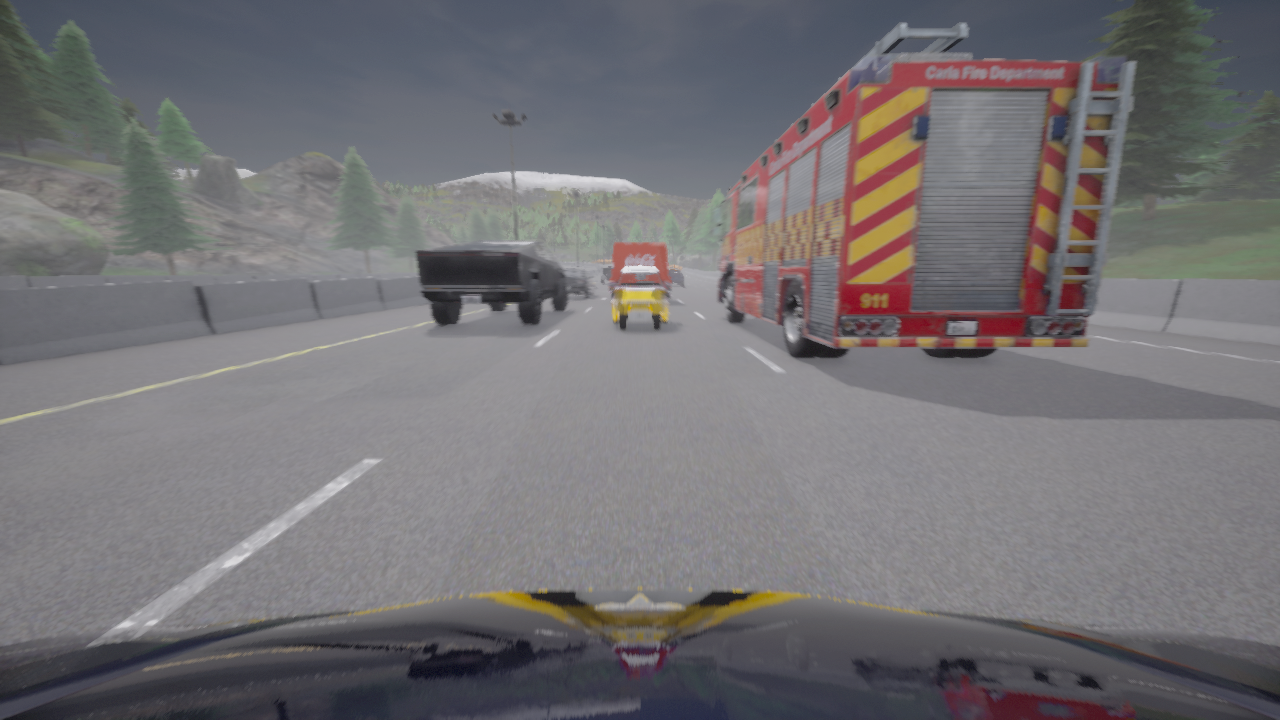cyclist: (0, 588, 1279, 719), (711, 22, 1134, 357), (416, 240, 567, 324), (609, 266, 670, 329), (609, 242, 670, 300), (564, 268, 596, 298), (668, 270, 684, 285)
